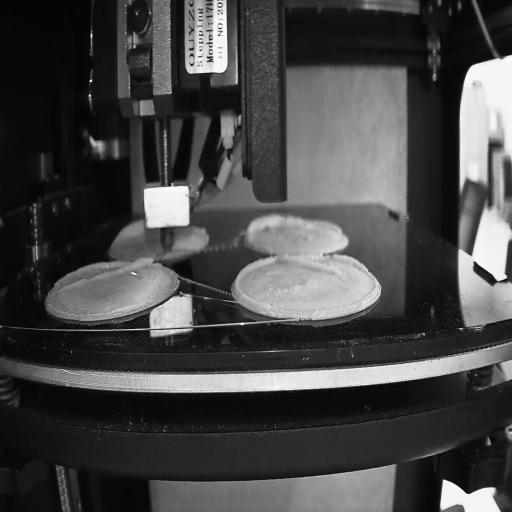over_extrusion: (61, 257, 152, 291), (234, 252, 277, 310), (280, 252, 369, 274), (246, 213, 290, 238), (114, 217, 144, 240), (312, 217, 342, 233)
